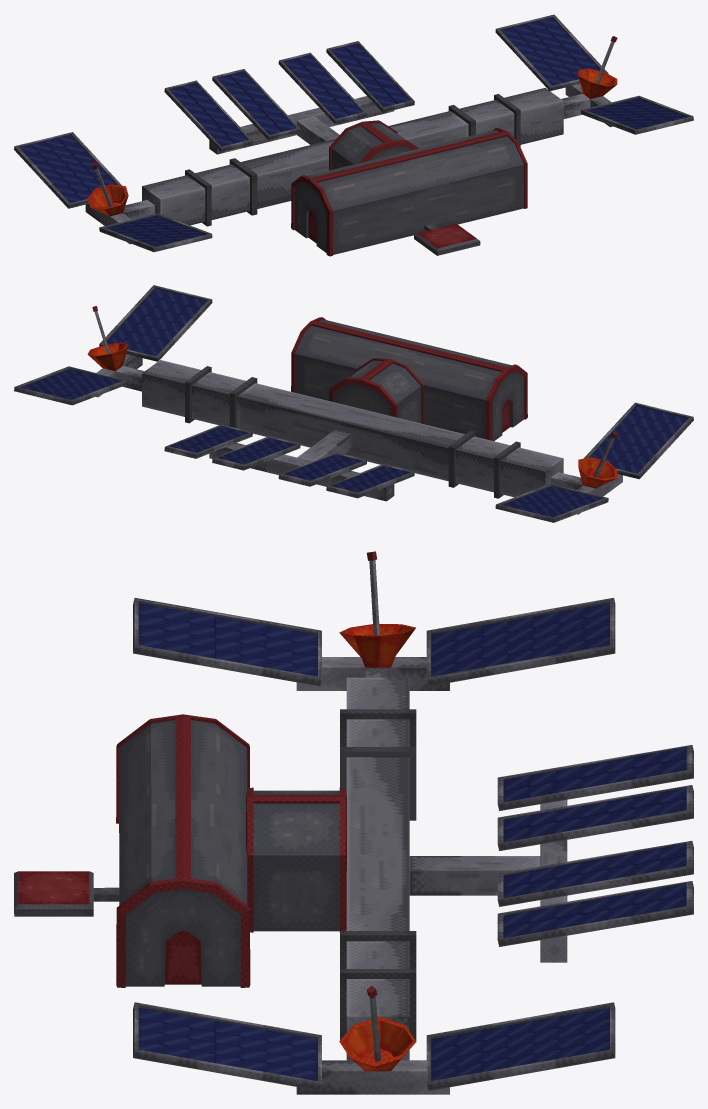
The model's file is estaçaõ espacial.fbx.
3 renders of one model, top to bottom at view 1: azimuth 30°, elevation 25°; view 2: azimuth 150°, elevation 25°; view 3: azimuth 270°, elevation 25°, orthographic. The views are drawn at different scales.
Parts seen in each view (by area): view 1: Cube.002, Cube.001, Cube.004, Cube.003; view 2: Cube.001, Cube.002, Cube.004, Cube.003; view 3: Cube.002, Cube.004, Cube.001, Cube.003.
Boxes of the visible parts, x1,y1,x2,y2 form: Cube.002: (291,120,527,256); Cube.001: (85,36,617,244); Cube.004: (14,14,693,252); Cube.003: (164,41,414,152); Cube.001: (87,306,622,514); Cube.002: (291,317,527,441); Cube.004: (14,285,693,522); Cube.003: (164,424,414,498); Cube.002: (14,714,346,987); Cube.004: (133,597,615,1090); Cube.001: (296,551,567,1094); Cube.003: (497,745,693,946).
Size of the model in its own units: 10709 by 1555 by 6784.
